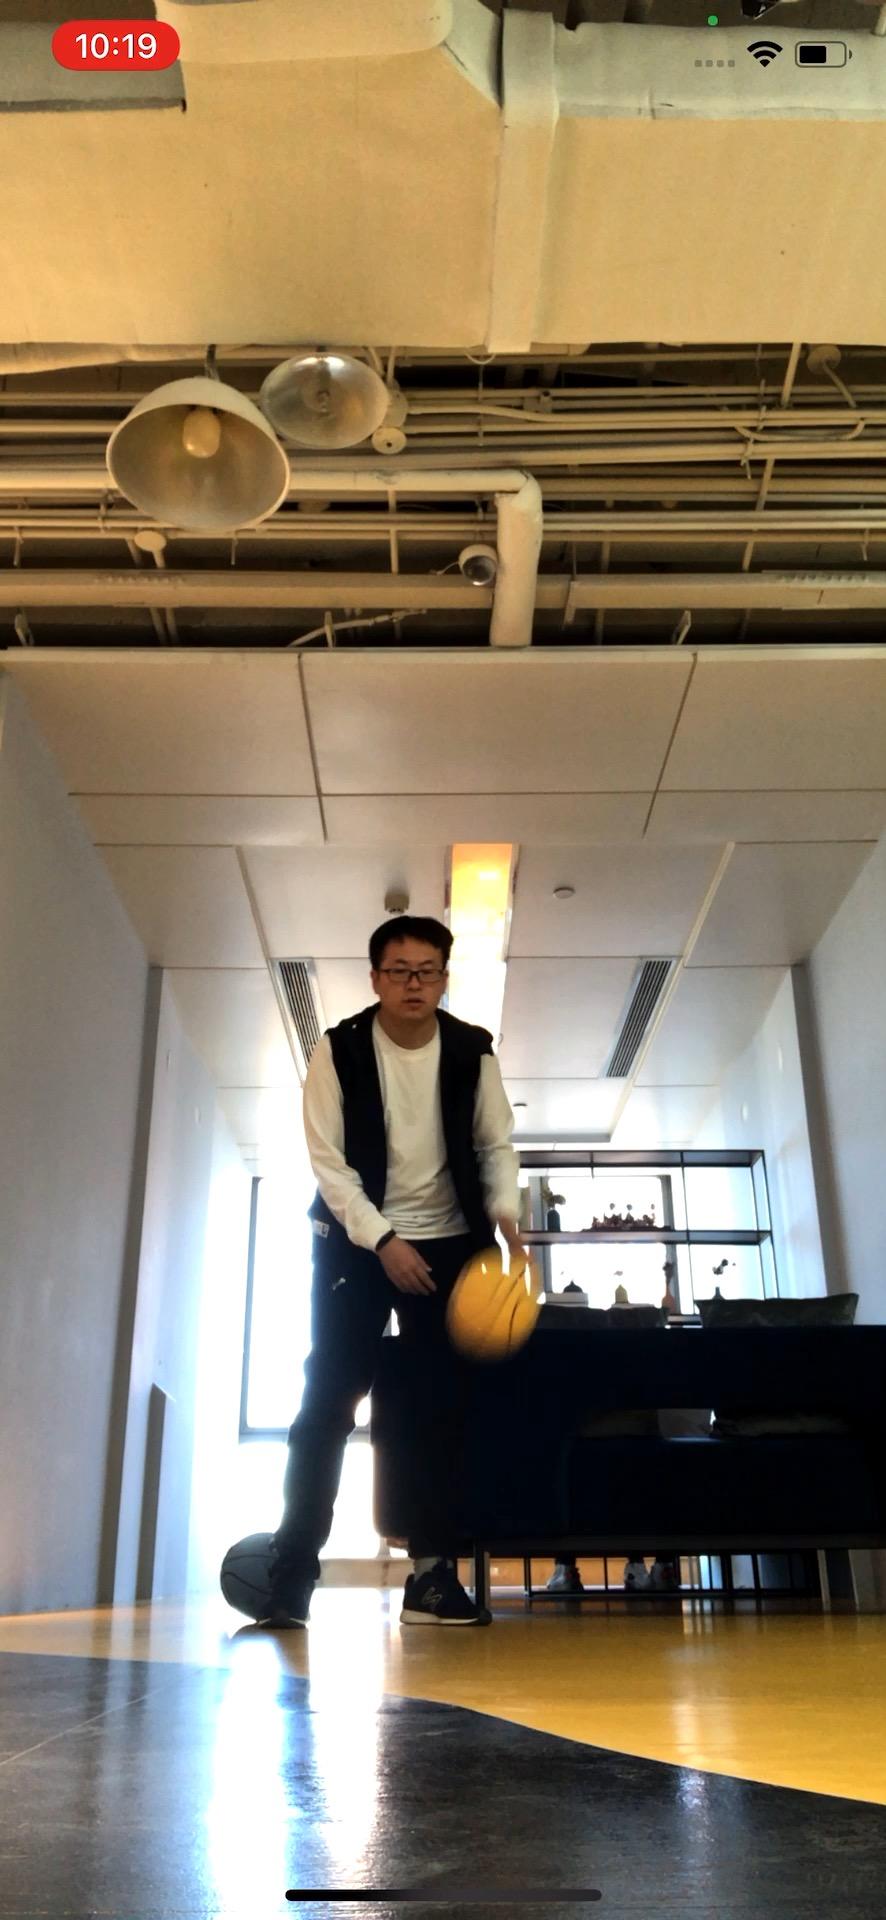ball: (449, 1251, 545, 1357)
